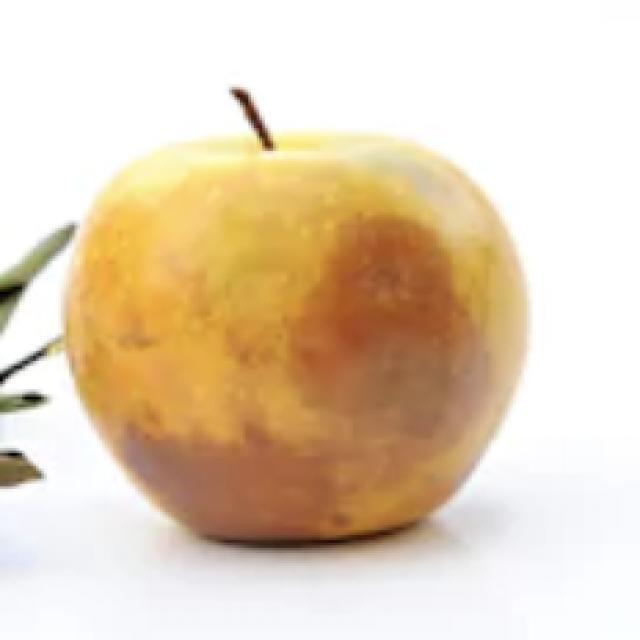Rotten: (94, 136, 528, 522)
